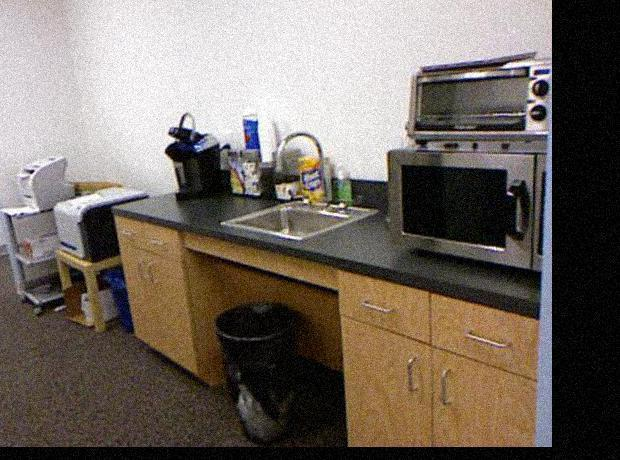Bote de Basura: (211, 301, 302, 442)
Lavaplatos: (221, 110, 373, 265)
